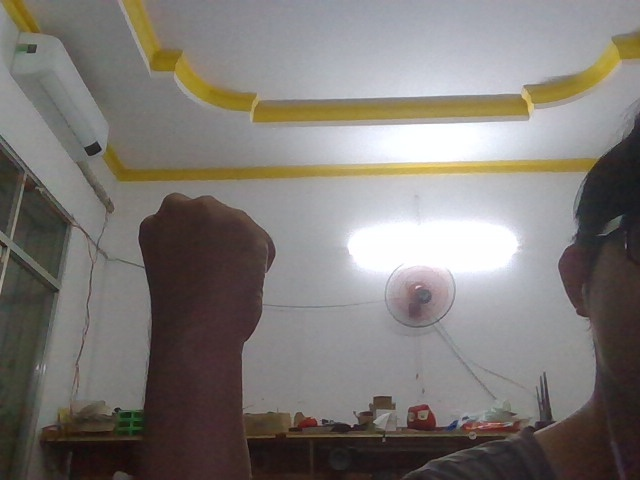fist: (124, 177, 285, 394)
